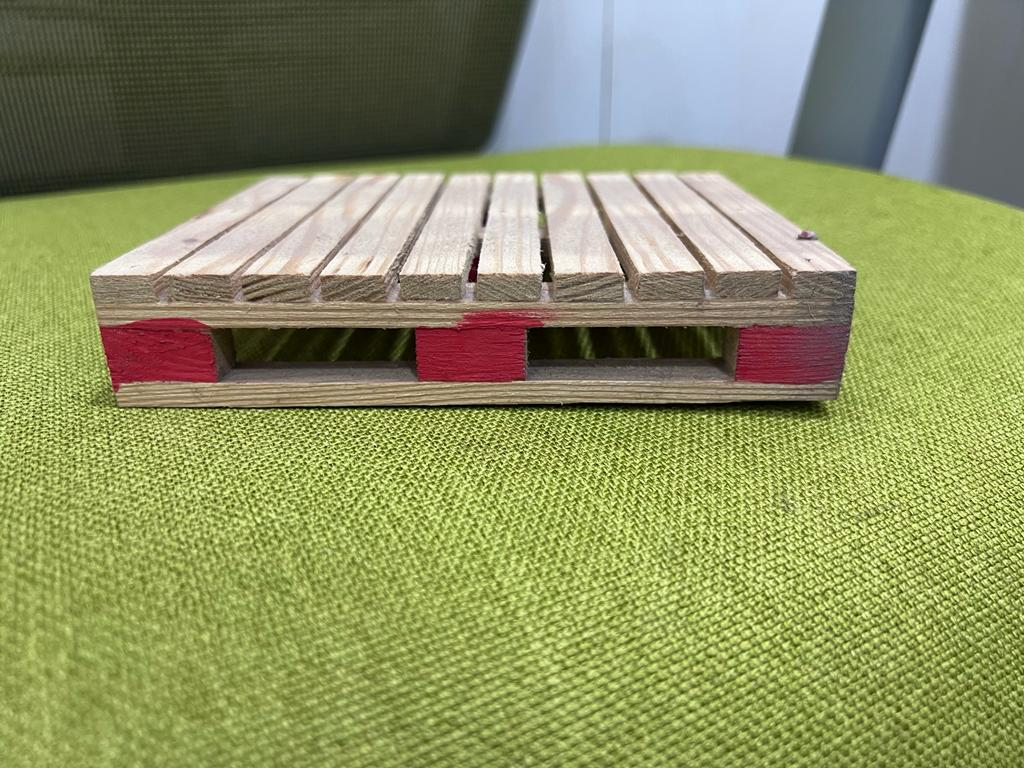pallet: (50, 123, 873, 407)
